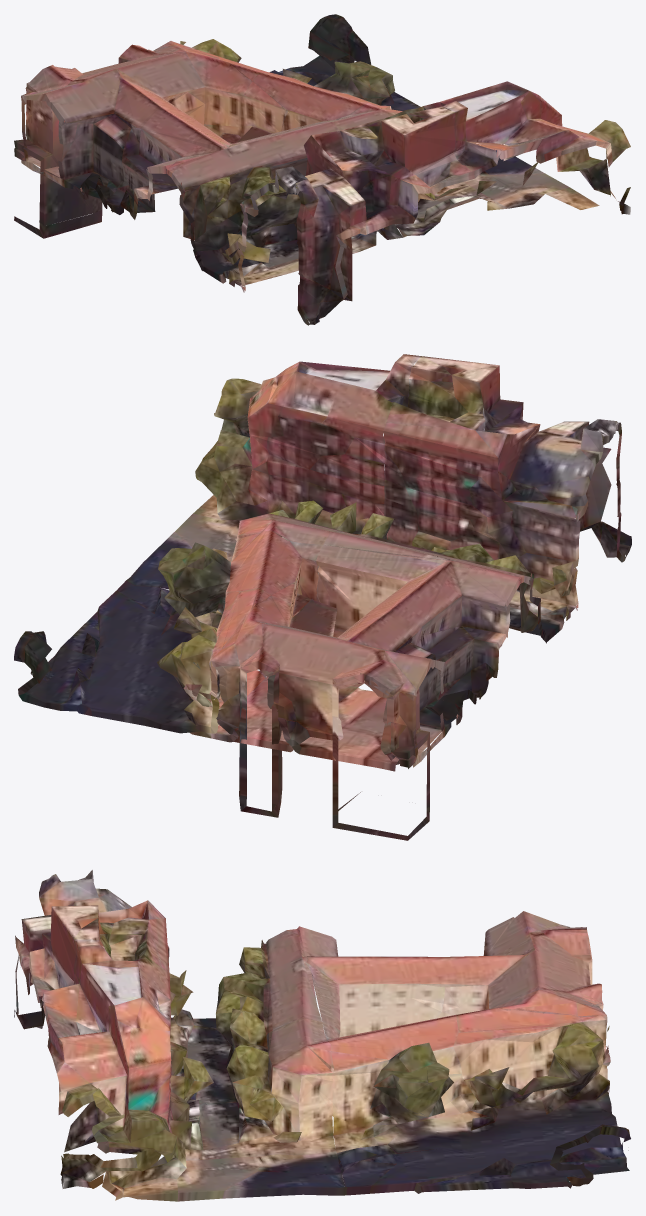
3 renders of one model, top to bottom at view 1: azimuth 30°, elevation 25°; view 2: azimuth 150°, elevation 25°; view 3: azimuth 270°, elevation 25°, orthographic. The views are drawn at different scales.
Visible parts, largest first — view 1: Mesh_0; view 2: Mesh_0; view 3: Mesh_0.
Boxes of the visible parts, x1,y1,x2,y2 form: Mesh_0: (14,14,630,325); Mesh_0: (14,354,631,840); Mesh_0: (14,870,630,1201).
Bounding box in the file's own units: 66.6 × 36.91 × 82.45.
Materials: 1 (1 with a texture image).
